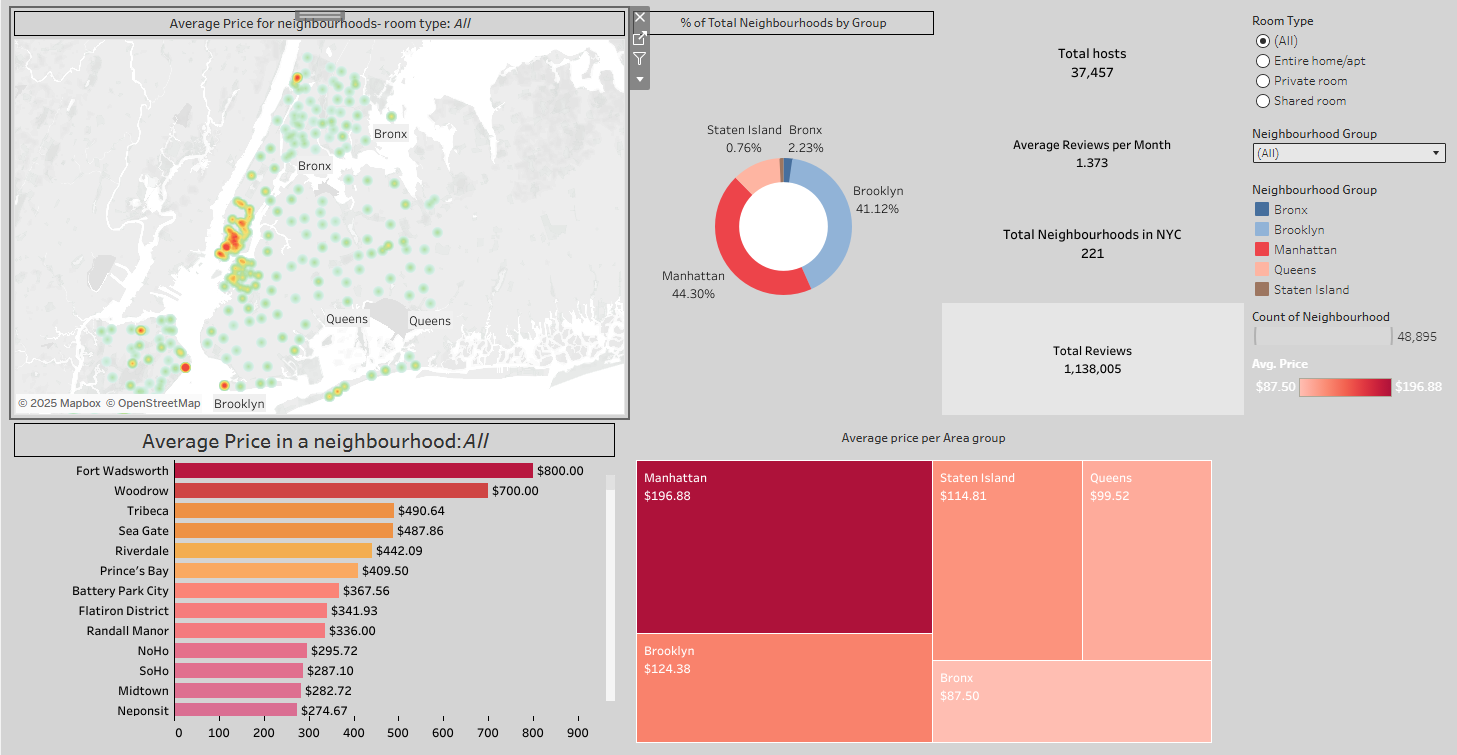

What the dashboard file says about the page in this screenshot:
{"tool":"tableau","page":{"name":"Neighbourhood Dashboard","canvas":[1000,1000],"units":"permille","ordinal":0},"visuals":[{"type":"worksheet","title":"Avg Price for neighbourhoods","mark":"Heatmap","rows":["latitude"],"cols":["longitude"],"box":[5,9.9,431.7,543.4]},{"type":"worksheet","title":"% of Total Neighbourhoods by Group","mark":"Pie","rows":["Calculation_2019301496424378370","Calculation_2019301496424378370"],"box":[436.7,9.9,215.9,543.4]},{"type":"worksheet","title":"Sheet 10","mark":"Automatic","box":[652.6,9.9,215.9,146.4]},{"type":"filter","title":"Avg Price for neighbourhoods","param":"[federated.1vtuduo0x0v4q81a6fgev0vzb86r].[none:room_type:nk]","box":[868.5,9.9,126.6,183.6]},{"type":"worksheet","title":"Sheet 12","mark":"Automatic","box":[652.6,156.3,215.9,93]},{"type":"filter","title":"Avg Price in a neighbourhood","param":"[federated.1vtuduo0x0v4q81a6fgev0vzb86r].[none:neighbourhood_group:nk]","box":[868.5,193.6,126.6,86.9]},{"type":"worksheet","title":"Sheet 11","mark":"Automatic","box":[652.6,249.3,215.9,145.2]},{"type":"legend","title":"% of Total Neighbourhoods by Group","param":"[federated.1vtuduo0x0v4q81a6fgev0vzb86r].[none:neighbourhood_group:nk]","box":[868.5,280.4,126.6,197.3]},{"type":"worksheet","title":"Sheet 13","mark":"Automatic","box":[652.6,394.5,215.9,158.8]},{"type":"legend","title":"% of Total Neighbourhoods by Group","param":"[federated.1vtuduo0x0v4q81a6fgev0vzb86r].[cnt:neighbourhood:qk]","box":[868.5,477.7,126.6,73.2]},{"type":"legend","title":"Average price per Area group","param":"[federated.1vtuduo0x0v4q81a6fgev0vzb86r].[avg:price:qk]","box":[868.5,550.9,126.6,100.5]},{"type":"worksheet","title":"Avg Price in a neighbourhood","mark":"Automatic","rows":["neighbourhood"],"cols":["price"],"box":[5,553.3,431.4,436.8]},{"type":"worksheet","title":"Average price per Area group","mark":"Automatic","box":[436.4,553.3,412.1,436.8]},{"type":"blank","box":[848.5,553.3,19.9,436.8]}]}

Visuals, with their boxes on the dashboard's canvas, which has no fixed pixel size, in thousandths of its width and height (x1, y1, x2, y2). These are canvas units, not pixel positions in the 1457x755 screenshot, which may show the page scaled, cropped or inside an application window:
"Avg Price for neighbourhoods" worksheet (Heatmap marks): <box>5,10,437,553</box>
"% of Total Neighbourhoods by Group" worksheet (Pie marks): <box>437,10,653,553</box>
"Sheet 10" worksheet: <box>653,10,868,156</box>
"Avg Price for neighbourhoods" filter: <box>868,10,995,194</box>
"Sheet 12" worksheet: <box>653,156,868,249</box>
"Avg Price in a neighbourhood" filter: <box>868,194,995,280</box>
"Sheet 11" worksheet: <box>653,249,868,394</box>
"% of Total Neighbourhoods by Group" legend: <box>868,280,995,478</box>
"Sheet 13" worksheet: <box>653,394,868,553</box>
"% of Total Neighbourhoods by Group" legend: <box>868,478,995,551</box>
"Average price per Area group" legend: <box>868,551,995,651</box>
"Avg Price in a neighbourhood" worksheet: <box>5,553,436,990</box>
"Average price per Area group" worksheet: <box>436,553,848,990</box>
blank: <box>848,553,868,990</box>
